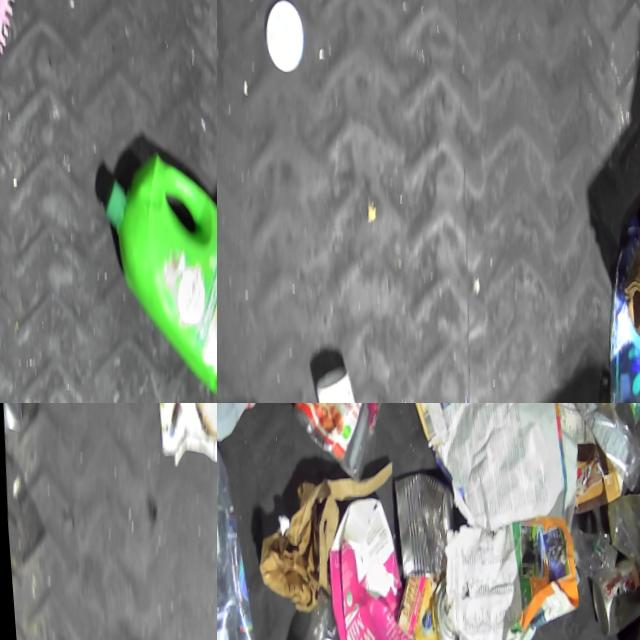can: (385, 472, 452, 580), (581, 554, 640, 639), (386, 570, 454, 640)
non_white_jug: (90, 147, 217, 396), (311, 494, 425, 640)
plastic_bottle: (217, 437, 258, 640), (558, 403, 640, 491), (265, 588, 341, 640)
